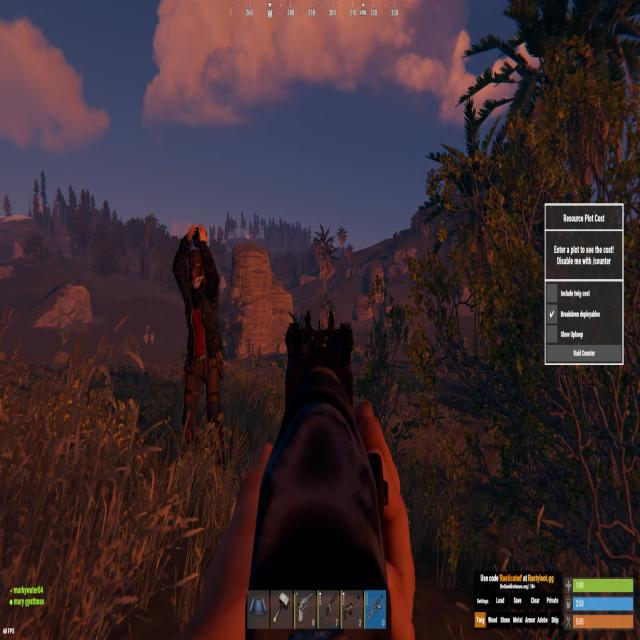Player: (170, 222, 228, 478)
